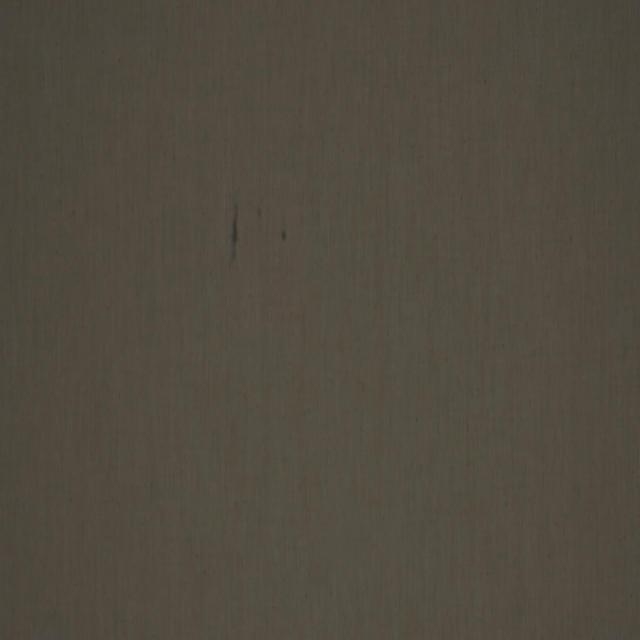dirty: (230, 202, 238, 264), (280, 230, 287, 242), (256, 208, 262, 218)
